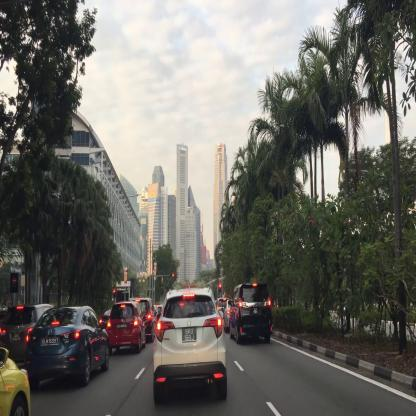red_traffic_light: (218, 283, 221, 292), (113, 289, 115, 297), (170, 274, 174, 276)
